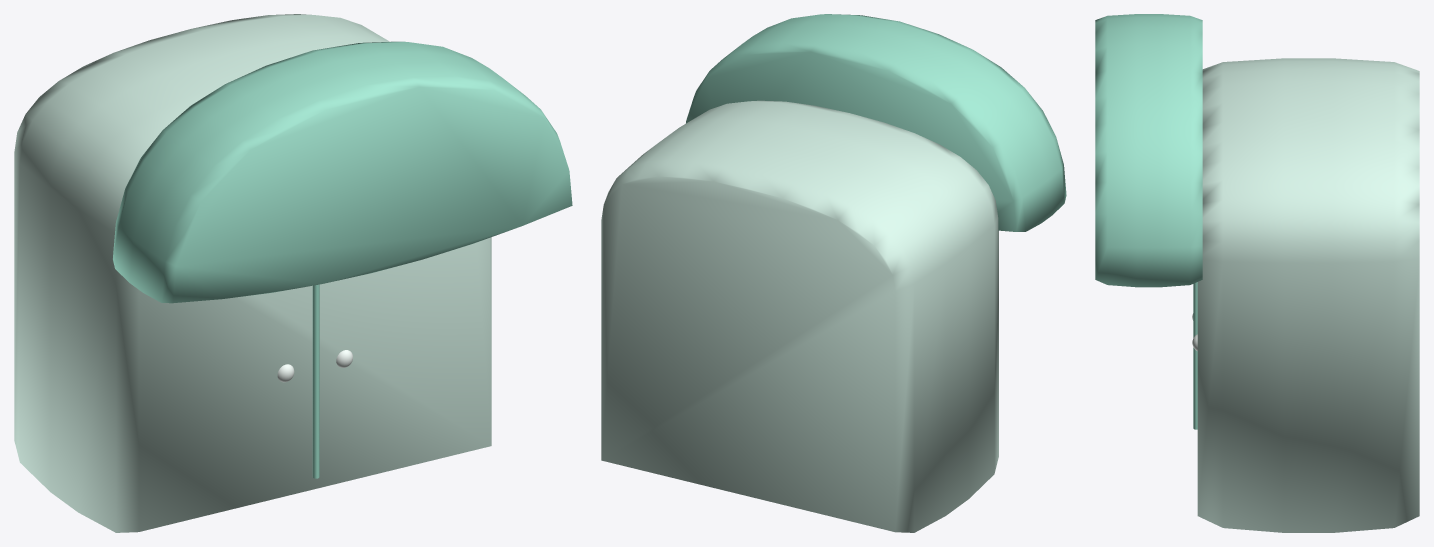
The model's file is decor_4_mint.glb.
The picture shows the model from 3 angles, left to right: view 1: azimuth 30°, elevation 25°; view 2: azimuth 150°, elevation 25°; view 3: azimuth 270°, elevation 25°; orthographic projection. The views are drawn at different scales.
Parts seen in each view (by area): view 1: decor_4_mint; view 2: decor_4_mint; view 3: decor_4_mint.
Boxes of the visible parts, x1,y1,x2,y2 form: decor_4_mint: [14, 14, 572, 532]; decor_4_mint: [601, 14, 1066, 532]; decor_4_mint: [1095, 14, 1419, 532].
Bounding box in the file's own units: 14.04 × 14.82 × 10.73.
